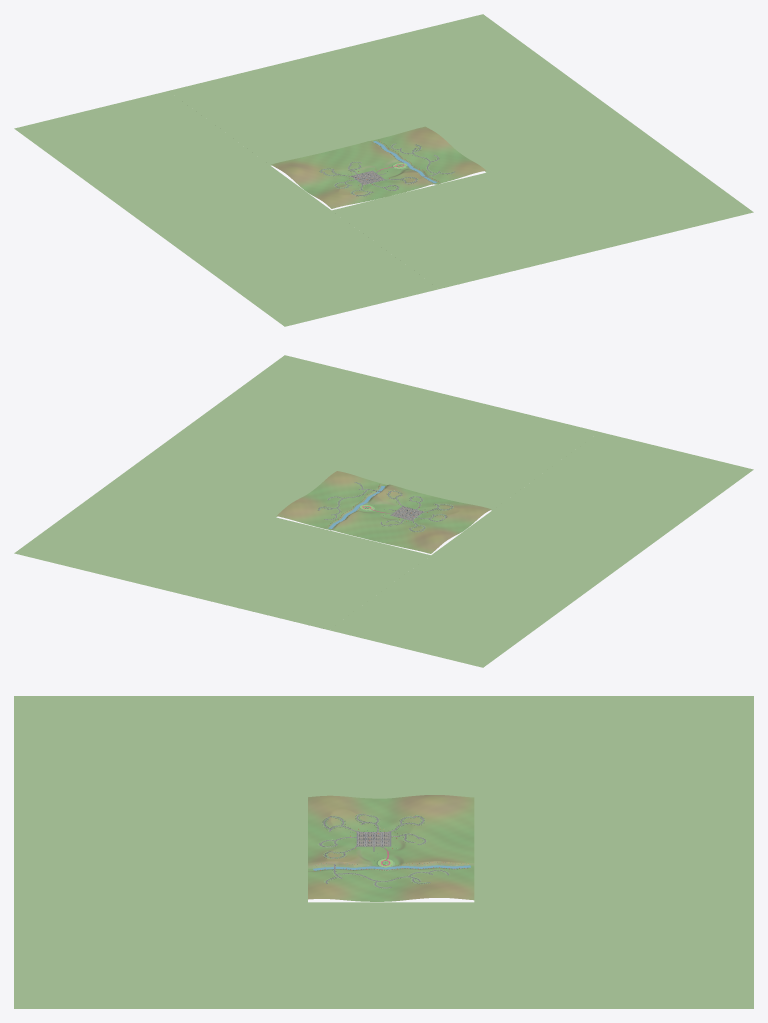
3 renders of one model, top to bottom at view 1: azimuth 30°, elevation 25°; view 2: azimuth 150°, elevation 25°; view 3: azimuth 270°, elevation 25°, orthographic. The views are drawn at different scales.
Parts seen in each view (by area): view 1: ground_east, ground_west, ground_south, ground_north, regional_walkable_terrain, hillside_pads; view 2: ground_east, ground_west, ground_south, ground_north, regional_walkable_terrain, hillside_pads; view 3: ground_east, ground_west, ground_south, ground_north, regional_walkable_terrain, hillside_pads.
Part boxes in pixels (left/top/right/bottom): ground_east: left=323, top=14, right=753, bottom=251; ground_west: left=14, top=91, right=438, bottom=326; ground_south: left=332, top=172, right=593, bottom=288; ground_north: left=169, top=53, right=423, bottom=165; regional_walkable_terrain: left=271, top=126, right=485, bottom=208; hillside_pads: left=319, top=143, right=454, bottom=196; ground_east: left=14, top=355, right=444, bottom=592; ground_west: left=329, top=432, right=753, bottom=667; ground_south: left=340, top=394, right=598, bottom=510; ground_north: left=174, top=517, right=430, bottom=629; regional_walkable_terrain: left=277, top=471, right=491, bottom=553; hillside_pads: left=317, top=482, right=453, bottom=532; ground_east: left=14, top=902, right=753, bottom=1008; ground_west: left=14, top=696, right=753, bottom=798; ground_south: left=14, top=799, right=307, bottom=902; ground_north: left=474, top=799, right=753, bottom=902; regional_walkable_terrain: left=308, top=795, right=474, bottom=901; hillside_pads: left=317, top=813, right=450, bottom=888.
Bounding box in the file's own units: 4000 × 31.52 × 4000.
